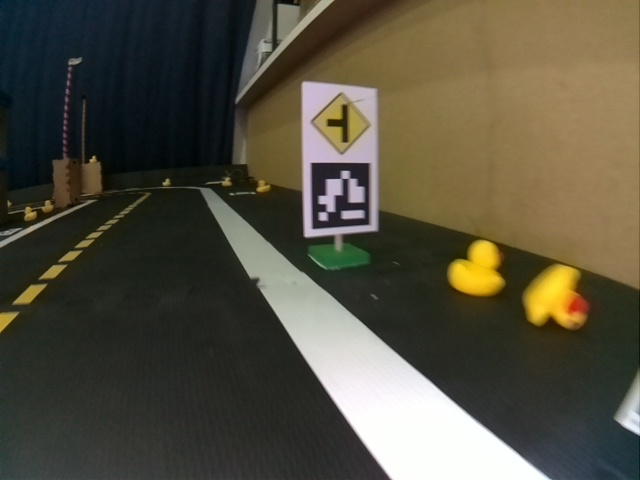Duckie: (523, 266, 589, 329), (450, 240, 502, 296), (256, 180, 271, 192), (221, 178, 231, 187), (162, 179, 171, 188)
Intersection sign: (309, 93, 373, 156)
QR code: (310, 161, 372, 229)
